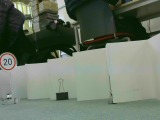speed_20: (1, 51, 17, 71)
